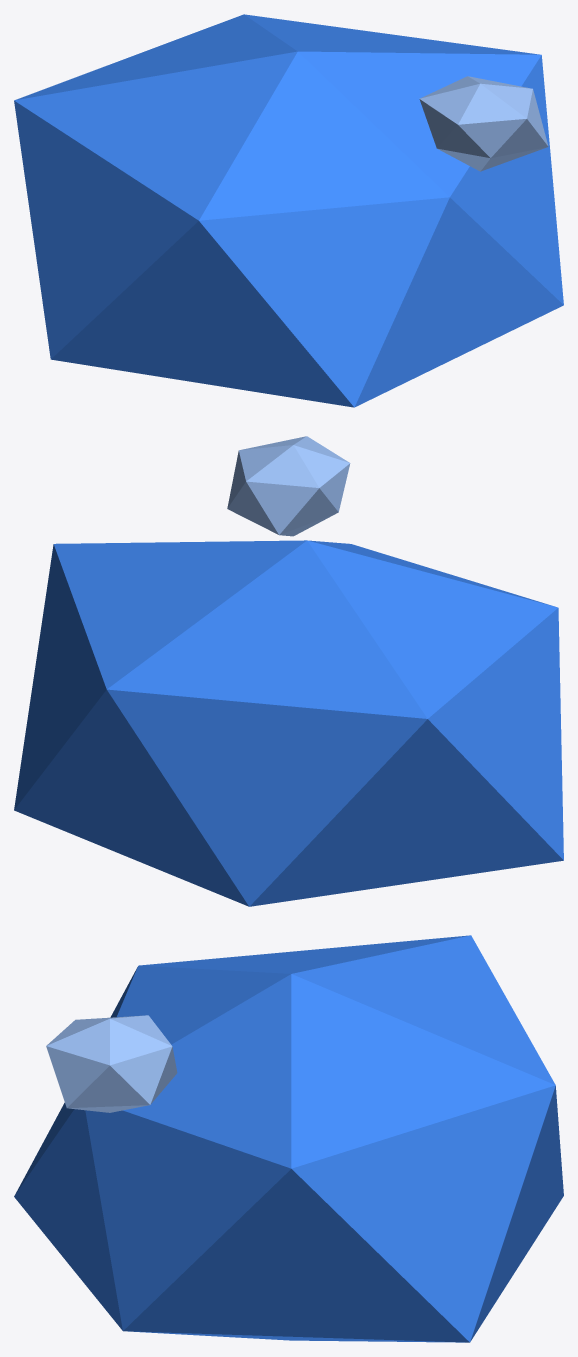
The model's file is Stone_Blue.glb.
3 views of the same model, one above another, from view 1: azimuth 30°, elevation 25°; view 2: azimuth 150°, elevation 25°; view 3: azimuth 270°, elevation 25° (orthographic). The views are drawn at different scales.
Parts seen in each view (by area): view 1: Stone_Blue_Body, Stone_Blue_Speck; view 2: Stone_Blue_Body, Stone_Blue_Speck; view 3: Stone_Blue_Body, Stone_Blue_Speck.
Part boxes in pixels (x1,y1,x2,y2): Stone_Blue_Body: (14,14,563,407); Stone_Blue_Speck: (419,76,548,171); Stone_Blue_Body: (14,540,563,906); Stone_Blue_Speck: (227,436,350,536); Stone_Blue_Body: (14,935,563,1342); Stone_Blue_Speck: (46,1015,177,1112).
Bounding box in the file's own units: 0.1004 × 0.068 × 0.0909.
